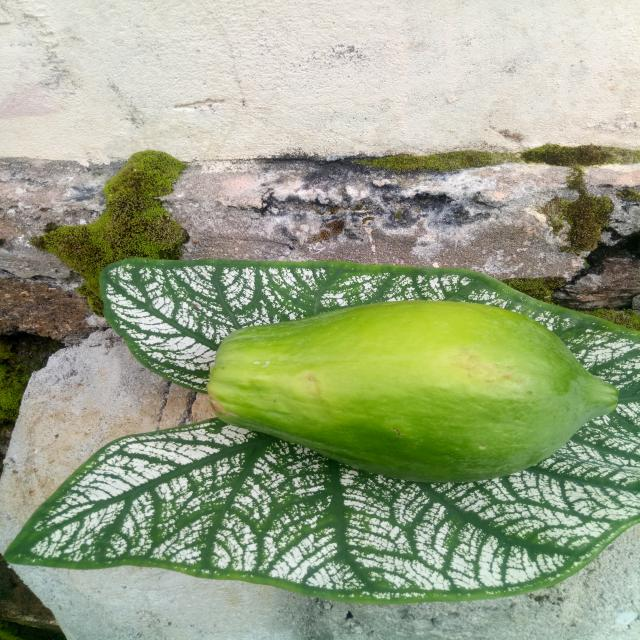Pepaya unrippen: (196, 296, 624, 486)
